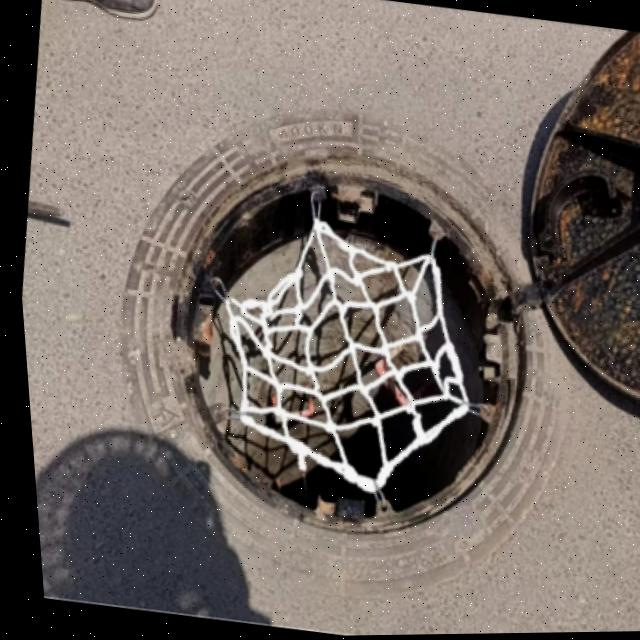manhole: (102, 111, 573, 568)
